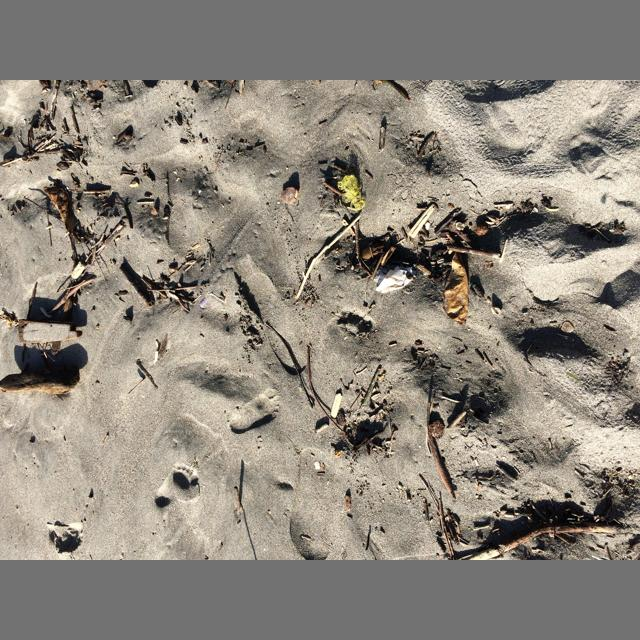litter: (373, 266, 416, 293), (337, 175, 365, 213), (200, 297, 208, 308)
